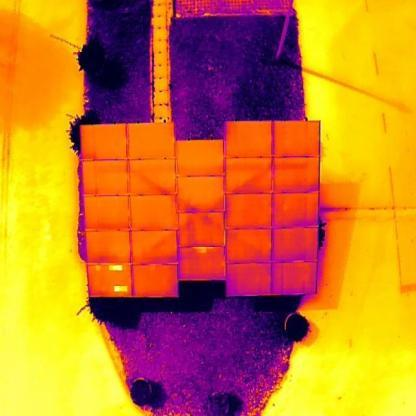anomaly: (112, 282, 130, 295), (107, 265, 123, 272)
